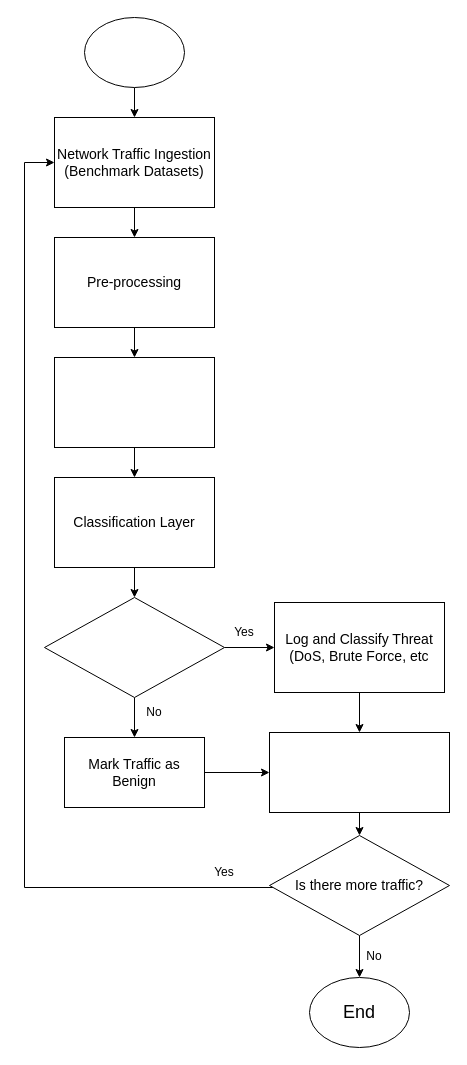
Image size: 467x1065. Some labels were removed from this diagram. The centre of each missing label's shape, as x and y in pixels:
"Deep Learning Component" goes at (x=134, y=402).
"Is it an attack?" goes at (x=134, y=647).
"Record Performance Metrics (Accuracy, FPR, F1-Score)" goes at (x=359, y=772).
"Start" goes at (x=134, y=52).
